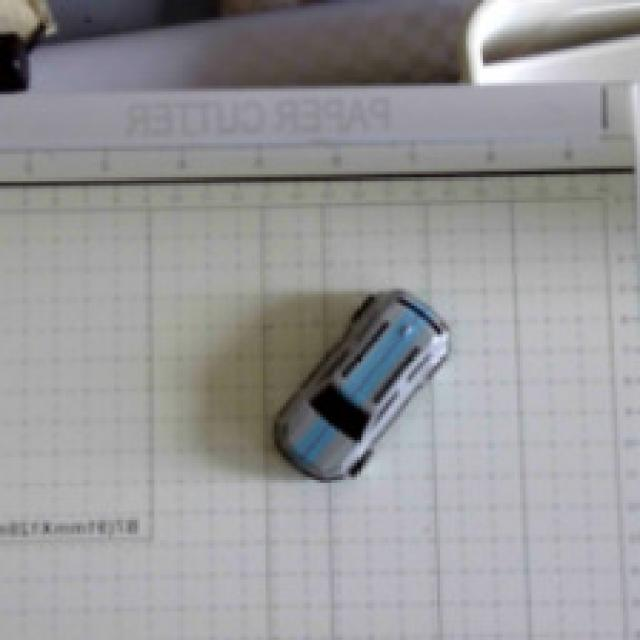Grey Car: (229, 256, 473, 517)
